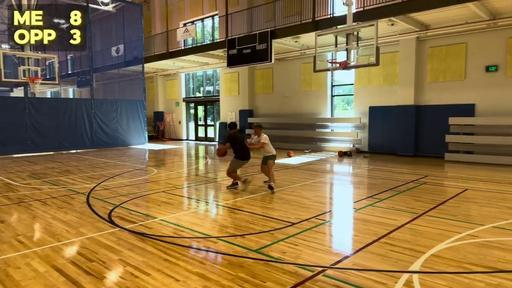ball: (216, 147, 228, 158), (286, 150, 294, 158)
human: (218, 121, 251, 191), (247, 124, 277, 194)
rim: (327, 60, 349, 76), (26, 77, 42, 92)
